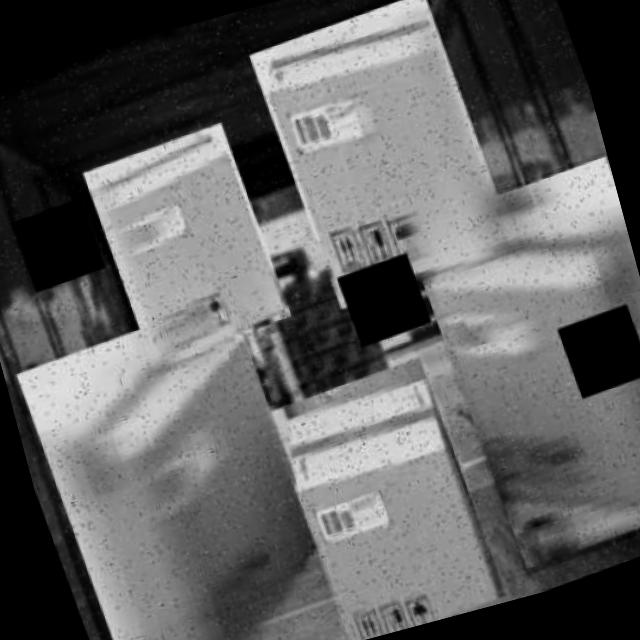box: (7, 283, 358, 640), (394, 150, 640, 583), (241, 0, 525, 320), (259, 344, 511, 640), (78, 114, 299, 375)
